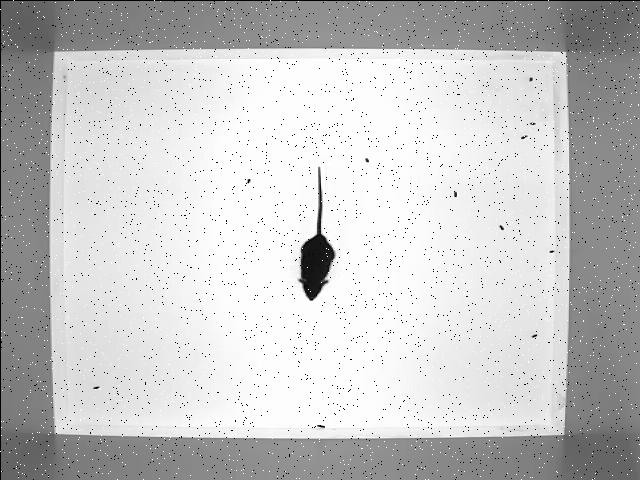Tikus: (292, 163, 341, 304)
